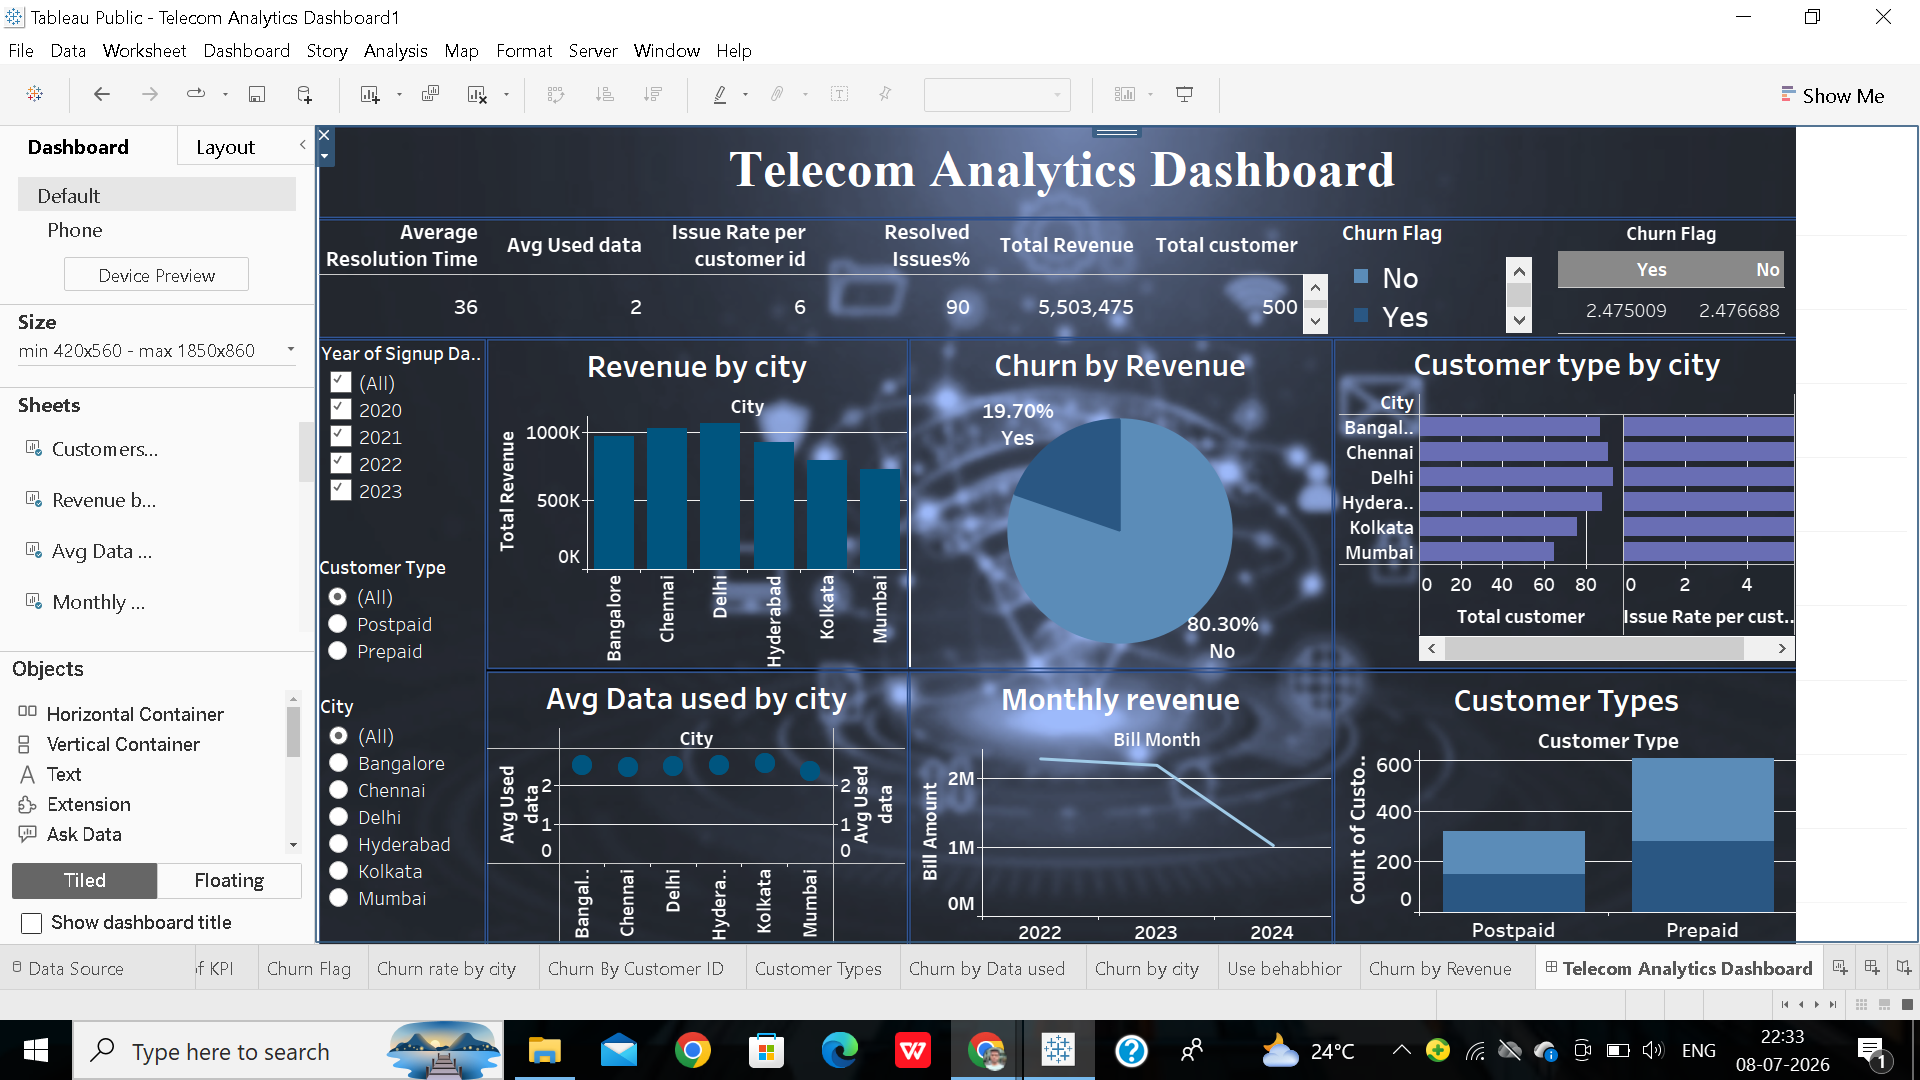

The dashboard page shown, as its layout file describes it:
{"tool":"tableau","page":{"name":"Telecom Analytics Dashboard","canvas":[1000,1000],"units":"permille","ordinal":0},"visuals":[{"type":"worksheet","title":"Churn Flag","mark":"Automatic","rows":["Calculation_820218123984789510"],"cols":["Calculation_565483270613098496"],"box":[5,9.8,989.9,980.4]},{"type":"worksheet","title":"Calculation of KPI","mark":"Automatic","box":[1.9,108.8,653.4,147.9]},{"type":"worksheet","title":"Use behabhior","mark":"Automatic","cols":["Calculation_565483270613098496"],"box":[774.8,110,147,145.5]},{"type":"legend","title":"Churn by Revenue","param":"[federated.0wkl7g718nlxtf164yxf21muqs0p].[none:Calculation_565483270613098496:nk","box":[640.4,113.7,119.9,140.6]},{"type":"worksheet","title":"Customers by city","mark":"Automatic","rows":["city"],"cols":["Calculation_820218123984388100","Calculation_820218123983560706"],"box":[638.3,260.4,290.5,394.9]},{"type":"worksheet","title":"Churn by Revenue","mark":"Pie","box":[370.3,261.6,263.1,401]},{"type":"filter","title":"Customers by city","param":"[federated.0wkl7g718nlxtf164yxf21muqs0p].[yr:signup_date:ok]","box":[3.8,262.8,103.5,238.4]},{"type":"worksheet","title":"Revenue by city","mark":"Automatic","rows":["Calculation_820218123984789510"],"cols":["city"],"box":[107.2,262.8,261.9,402.2]},{"type":"filter","title":"Customers by city","param":"[federated.0wkl7g718nlxtf164yxf21muqs0p].[none:customer_type:nk]","box":[2.5,524.5,103.5,145.5]},{"type":"worksheet","title":"Avg Data used by city","mark":"Automatic","rows":["Calculation_820218123982856192","Calculation_820218123982856192"],"cols":["city"],"box":[107.2,668.7,261.2,332.5]},{"type":"worksheet","title":"Monthly revenue","mark":"Automatic","rows":["bill_amount"],"cols":["bill_month"],"box":[370.9,669.9,262.5,332.5]},{"type":"worksheet","title":"Customer Types","mark":"Automatic","rows":["customer_id"],"cols":["customer_type"],"box":[636.5,671.1,287.4,330.1]},{"type":"filter","title":"Customers by city","param":"[federated.0wkl7g718nlxtf164yxf21muqs0p].[none:city:nk]","box":[3.1,694.4,102.8,278.7]}]}

Visuals, with their boxes on the dashboard's canvas, which has no fixed pixel size, in thousandths of its width and height (x1, y1, x2, y2). These are canvas units, not pixel positions in the 1920x1080 screenshot, which may show the page scaled, cropped or inside an application window:
"Churn Flag" worksheet: (5, 10, 995, 990)
"Calculation of KPI" worksheet: (2, 109, 655, 257)
"Use behabhior" worksheet: (775, 110, 922, 256)
"Churn by Revenue" legend: (640, 114, 760, 254)
"Customers by city" worksheet: (638, 260, 929, 655)
"Churn by Revenue" worksheet (Pie marks): (370, 262, 633, 663)
"Customers by city" filter: (4, 263, 107, 501)
"Revenue by city" worksheet: (107, 263, 369, 665)
"Customers by city" filter: (2, 524, 106, 670)
"Avg Data used by city" worksheet: (107, 669, 368, 1001)
"Monthly revenue" worksheet: (371, 670, 633, 1002)
"Customer Types" worksheet: (636, 671, 924, 1001)
"Customers by city" filter: (3, 694, 106, 973)
